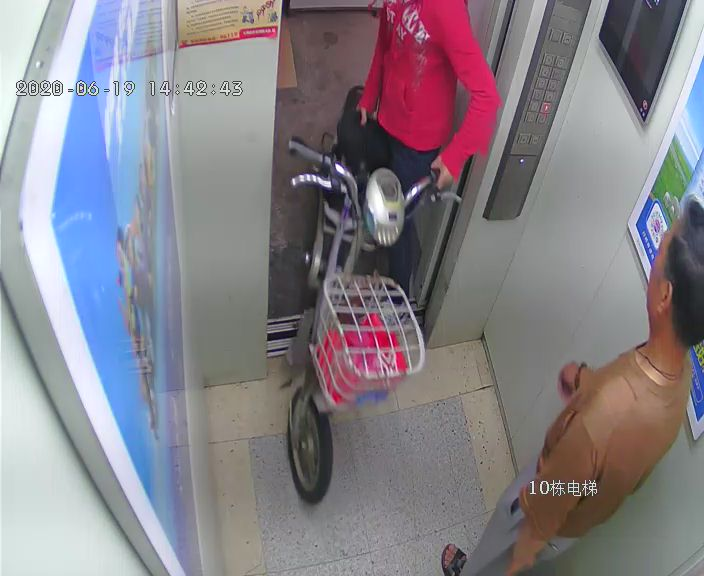Electric-bicycle: (289, 85, 458, 498)
